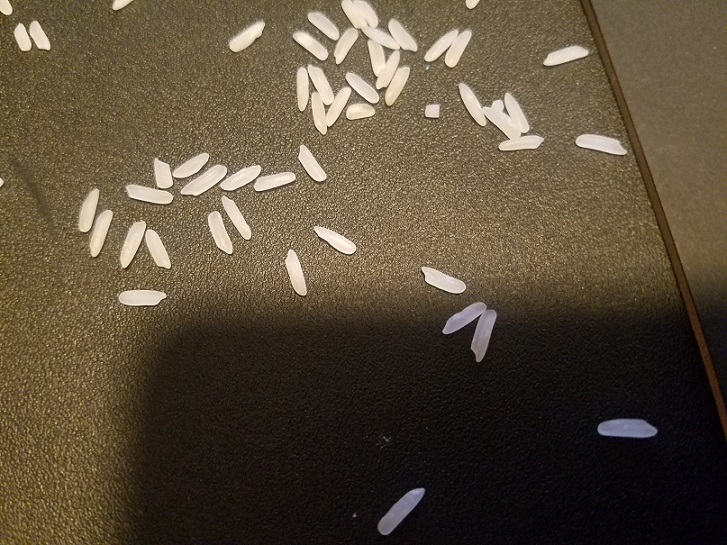egg: (375, 485, 427, 537), (178, 162, 228, 198), (441, 298, 487, 337), (469, 309, 500, 363), (115, 217, 146, 271), (218, 195, 253, 242), (293, 141, 330, 184), (203, 209, 235, 257), (226, 17, 267, 54), (456, 81, 488, 128), (481, 105, 522, 141), (422, 24, 460, 62), (420, 263, 465, 295), (86, 206, 113, 259), (280, 248, 308, 299), (291, 25, 328, 62), (575, 130, 629, 155), (322, 86, 353, 129), (443, 28, 475, 69), (143, 226, 172, 271), (384, 63, 413, 108), (360, 24, 405, 53), (344, 70, 381, 105), (313, 226, 356, 256), (172, 149, 212, 181), (77, 181, 101, 233), (218, 163, 261, 192), (542, 42, 588, 69), (307, 64, 337, 105), (386, 18, 421, 53), (125, 182, 175, 206), (597, 418, 659, 437), (331, 24, 362, 62), (502, 91, 531, 131), (306, 8, 340, 41), (253, 169, 297, 194), (374, 50, 400, 91), (117, 288, 168, 307), (497, 134, 544, 153), (366, 37, 388, 77), (309, 91, 329, 134), (27, 19, 53, 51), (151, 157, 175, 190), (340, 1, 367, 30), (351, 1, 380, 28), (10, 20, 33, 51), (294, 67, 310, 111), (344, 100, 376, 117), (422, 100, 443, 117), (108, 1, 135, 13), (1, 1, 15, 18), (462, 1, 483, 11), (494, 98, 504, 115)
